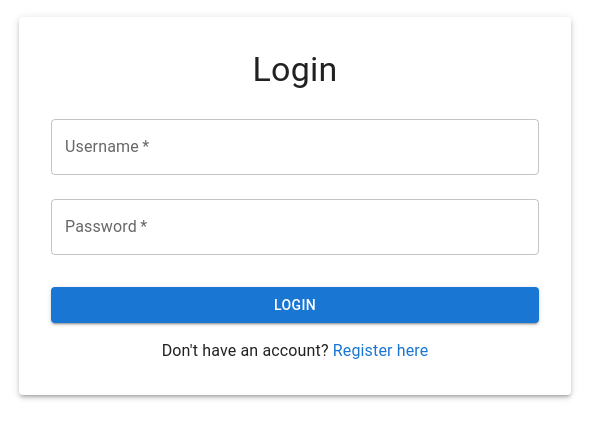
Login Component › handles login failure
Note: Fill out the form
Type "testuser" into the field labelled "Username *" at (295, 147), box left=51, top=119, right=539, bottom=175
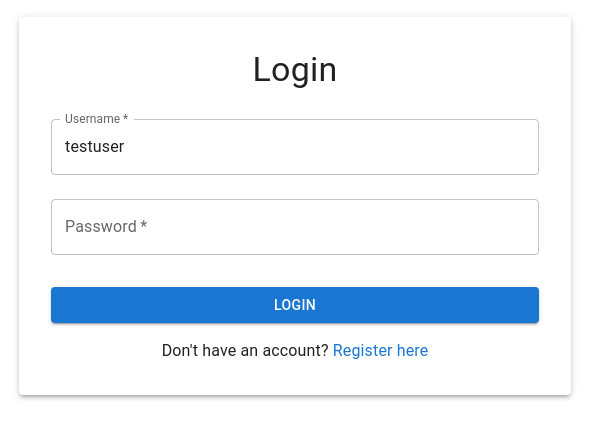
Type "wrongpassword" into the password field labelled "Password *" at (295, 227), box left=51, top=199, right=539, bottom=255
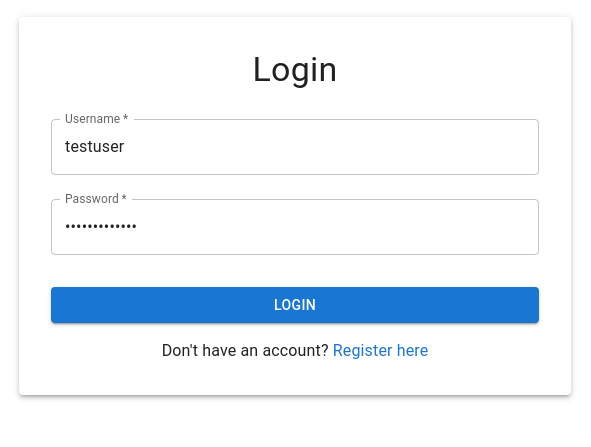
Note: Submit the form
Click the button "LOGIN" at (295, 305), box left=51, top=287, right=539, bottom=323
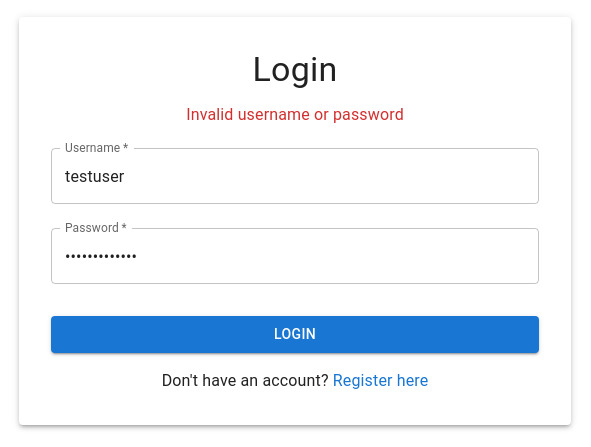
Result: the text "Invalid username or password" is shown at left=186, top=105, right=404, bottom=124
